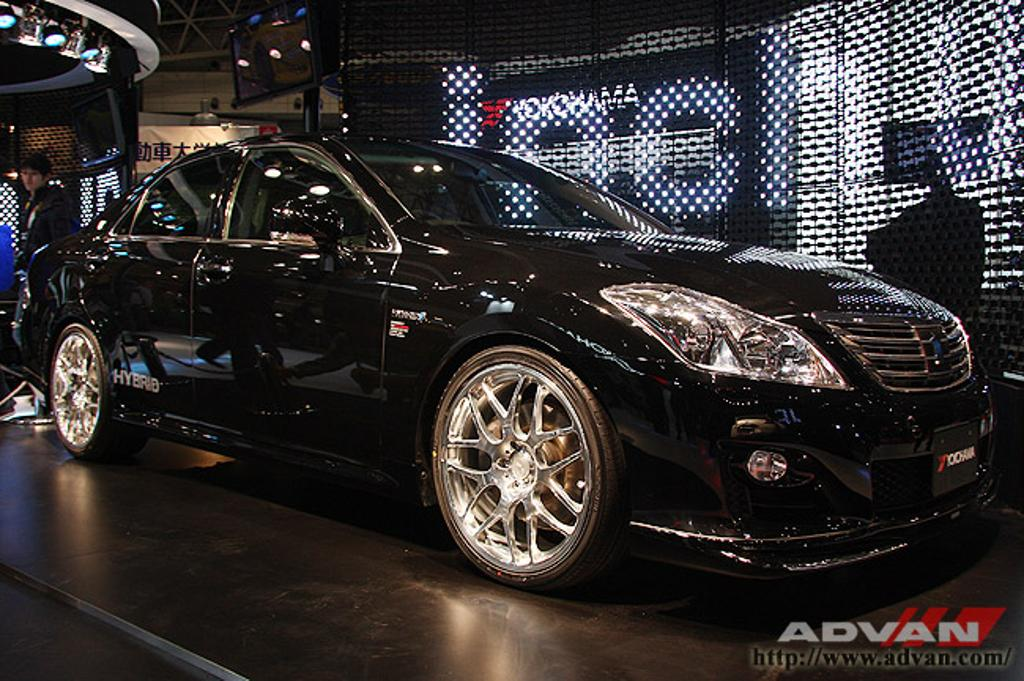face: (21, 166, 45, 191)
